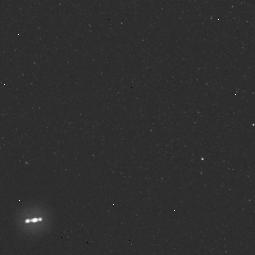earth_observation_sat_1: (10, 197, 59, 248)
